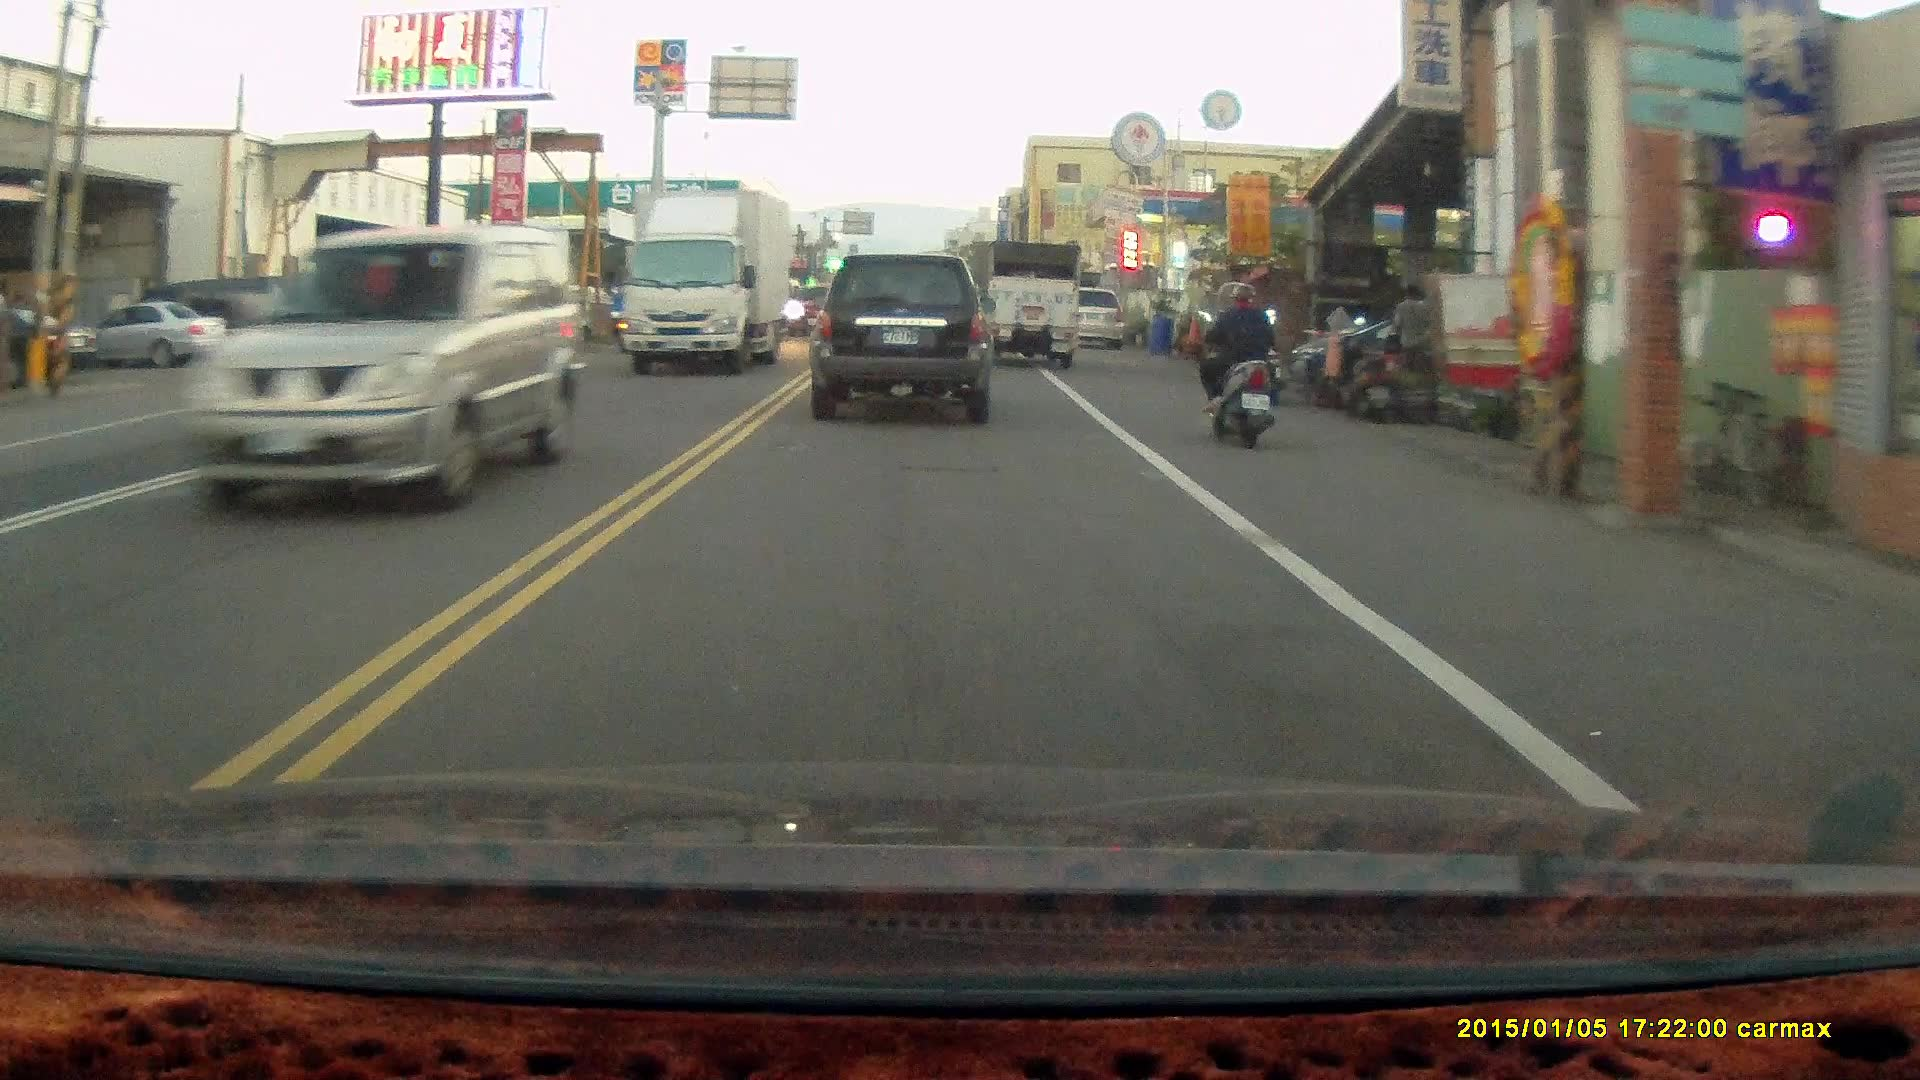pedestrian: (1389, 280, 1434, 403)
rider: (1190, 283, 1280, 451)
vehicle: (185, 223, 586, 513), (807, 253, 995, 428), (620, 187, 792, 374), (981, 237, 1078, 367), (85, 300, 236, 372)
